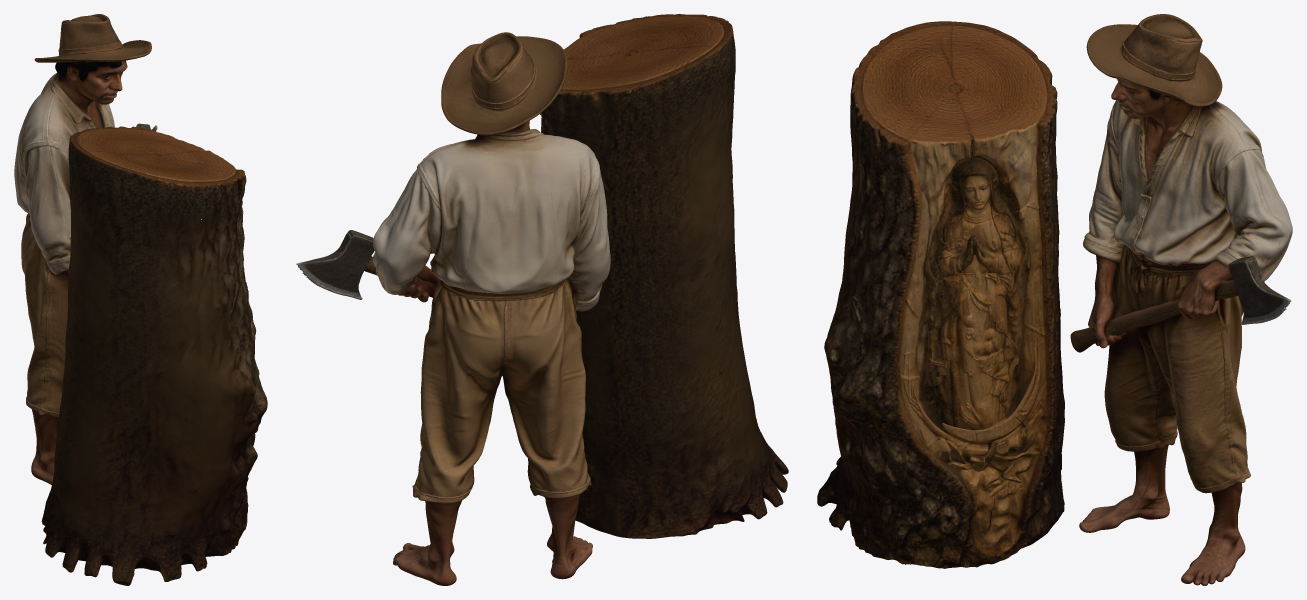
The model's file is aparicion_virgen.glb.
The picture shows the model from 3 angles, left to right: view 1: azimuth 30°, elevation 25°; view 2: azimuth 150°, elevation 25°; view 3: azimuth 270°, elevation 25°; orthographic projection. The views are drawn at different scales.
Visible parts, largest first — view 1: tripo_node_176f3942-4876-49e1-9689-c5f07ee7c58e; view 2: tripo_node_176f3942-4876-49e1-9689-c5f07ee7c58e; view 3: tripo_node_176f3942-4876-49e1-9689-c5f07ee7c58e.
Part boxes in pixels (left/top/right/bottom): tripo_node_176f3942-4876-49e1-9689-c5f07ee7c58e: left=14, top=14, right=267, bottom=585; tripo_node_176f3942-4876-49e1-9689-c5f07ee7c58e: left=296, top=14, right=788, bottom=585; tripo_node_176f3942-4876-49e1-9689-c5f07ee7c58e: left=817, top=14, right=1292, bottom=585.
Bounding box in the file's own units: 0.5823 × 0.9788 × 0.8043.
1 material, 1 textured.
